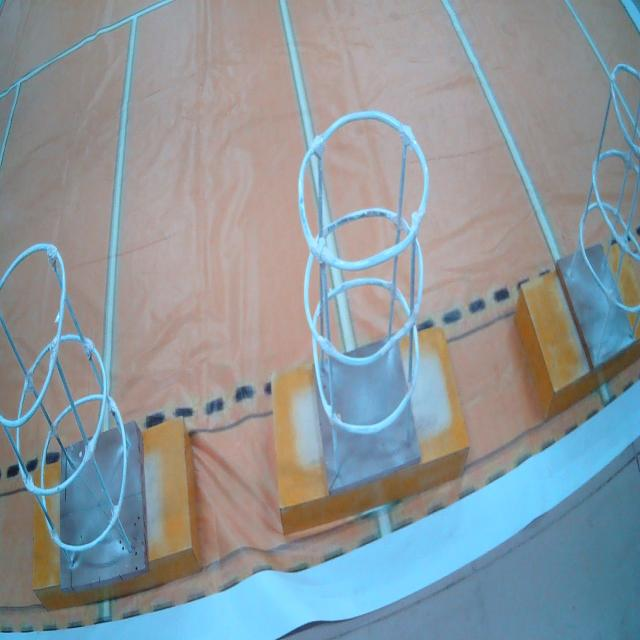silo: (0, 237, 146, 571), (298, 109, 427, 462), (560, 57, 640, 363)
